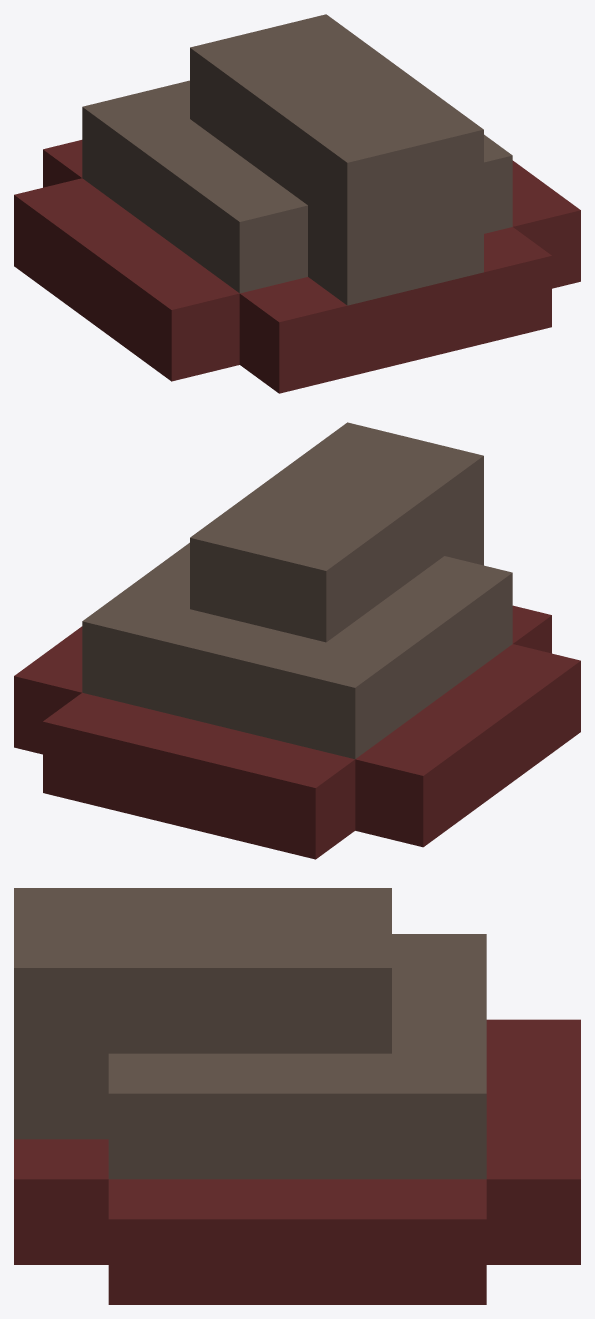
Rendered from humanoid-265-helm_lgt_1c_du_color.obj.
The picture shows the model from 3 angles, top to bottom: view 1: azimuth 30°, elevation 25°; view 2: azimuth 150°, elevation 25°; view 3: azimuth 270°, elevation 25°; orthographic projection. The views are drawn at different scales.
Visible parts, largest first — view 1: helm_lgt_1c_du_color; view 2: helm_lgt_1c_du_color; view 3: helm_lgt_1c_du_color.
Boxes of the visible parts, <box> form: helm_lgt_1c_du_color: <box>14,14,580,393</box>; helm_lgt_1c_du_color: <box>14,422,580,859</box>; helm_lgt_1c_du_color: <box>14,888,580,1304</box>.
Bounding box in the file's own units: 0.6 × 0.3 × 0.6.
1 material, 1 textured.
